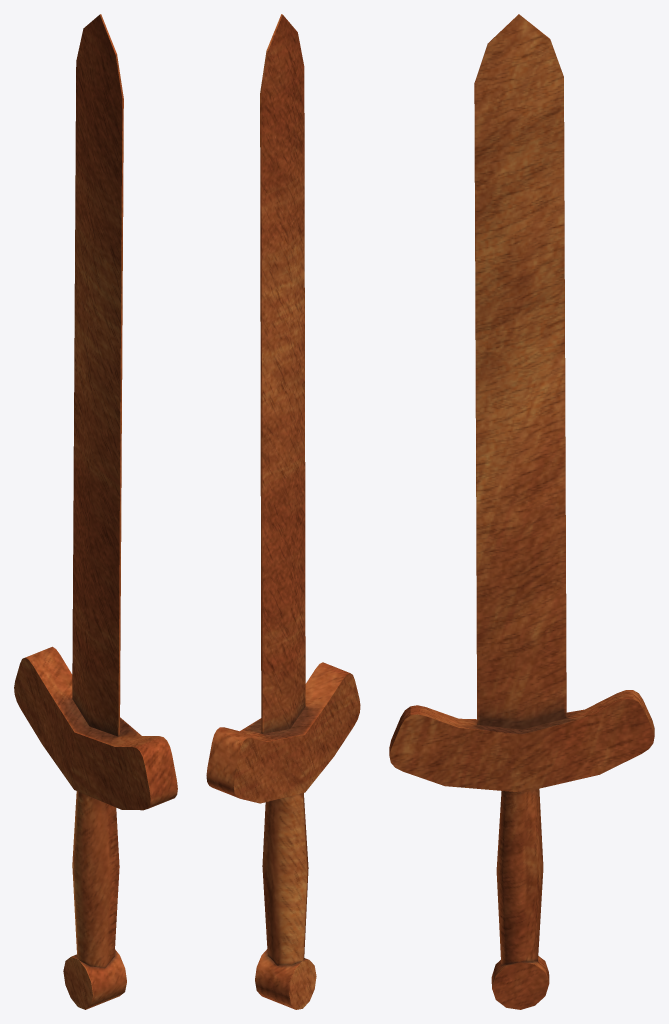
File: SM_1HandedSwordProp.fbx
The picture shows the model from 3 angles, left to right: view 1: azimuth 30°, elevation 25°; view 2: azimuth 150°, elevation 25°; view 3: azimuth 270°, elevation 25°; orthographic projection.
Visible parts, largest first — view 1: SM_1HandedSwordProp; view 2: SM_1HandedSwordProp; view 3: SM_1HandedSwordProp.
Boxes of the visible parts, left/top/right/bottom form: SM_1HandedSwordProp: left=14, top=14, right=177, bottom=1009; SM_1HandedSwordProp: left=206, top=14, right=360, bottom=1009; SM_1HandedSwordProp: left=389, top=14, right=654, bottom=1009.
Bounding box in the file's own units: 4.05 × 86.73 × 20.95.
